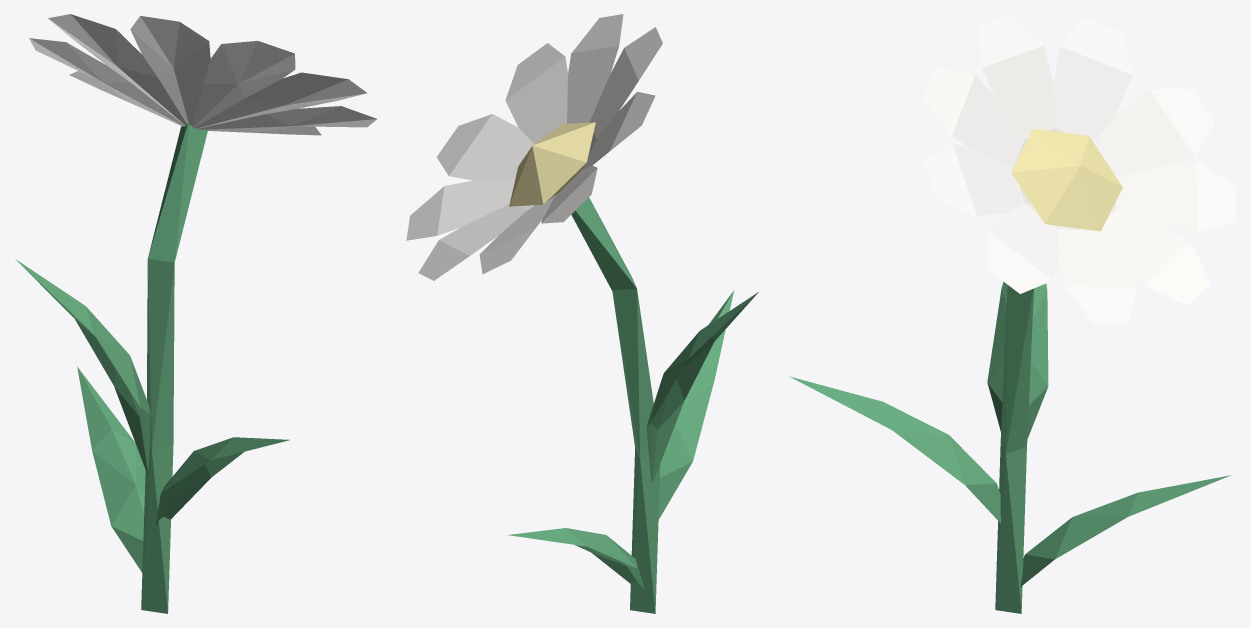
File: Prop_Flower_Daisy.glb
3 views of the same model, side by side, from view 1: azimuth 30°, elevation 25°; view 2: azimuth 150°, elevation 25°; view 3: azimuth 270°, elevation 25° (orthographic). The views are drawn at different scales.
Visible parts, largest first — view 1: object8, object2, object6, object16, object3, object10, object14, object5, object7, object15, object9, object12 (+2 smaller); view 2: object9, object7, object11, object3, object15, object1, object16, object2, object10, object4, object6, object5 (+4 smaller); view 3: object11, object14, object12, object13, object6, object4, object16, object1, object15, object7, object9, object2 (+3 smaller).
Boxes of the visible parts, x1=… form: object8: x1=77, y1=366, x2=145, y2=572; object2: x1=147, y1=259, x2=174, y2=450; object6: x1=130, y1=16, x2=210, y2=125; object16: x1=192, y1=40, x2=295, y2=127; object3: x1=15, y1=259, x2=150, y2=475; object10: x1=141, y1=443, x2=173, y2=613; object14: x1=48, y1=14, x2=186, y2=125; object5: x1=147, y1=123, x2=207, y2=262; object7: x1=195, y1=72, x2=367, y2=128; object15: x1=155, y1=437, x2=289, y2=525; object9: x1=198, y1=106, x2=376, y2=129; object12: x1=29, y1=38, x2=184, y2=126; object9: x1=436, y1=114, x2=533, y2=180; object7: x1=505, y1=43, x2=567, y2=143; object11: x1=509, y1=122, x2=595, y2=206; object3: x1=646, y1=292, x2=758, y2=482; object15: x1=658, y1=290, x2=734, y2=519; object1: x1=406, y1=179, x2=515, y2=240; object16: x1=567, y1=14, x2=623, y2=123; object2: x1=612, y1=288, x2=653, y2=458; object10: x1=630, y1=448, x2=660, y2=613; object4: x1=418, y1=204, x2=534, y2=280; object6: x1=589, y1=27, x2=662, y2=151; object5: x1=571, y1=197, x2=636, y2=290; object11: x1=1011, y1=128, x2=1122, y2=231; object14: x1=1053, y1=18, x2=1132, y2=142; object12: x1=1094, y1=89, x2=1214, y2=176; object13: x1=1112, y1=161, x2=1236, y2=232; object6: x1=978, y1=14, x2=1055, y2=142; object4: x1=1093, y1=209, x2=1210, y2=304; object16: x1=923, y1=68, x2=1025, y2=167; object1: x1=1058, y1=226, x2=1137, y2=323; object15: x1=789, y1=376, x2=1000, y2=523; object7: x1=924, y1=143, x2=1030, y2=215; object9: x1=987, y1=202, x2=1058, y2=293; object2: x1=1000, y1=285, x2=1033, y2=453.
Size of the model in its own units: 0.3185 by 0.5257 by 0.3644.
